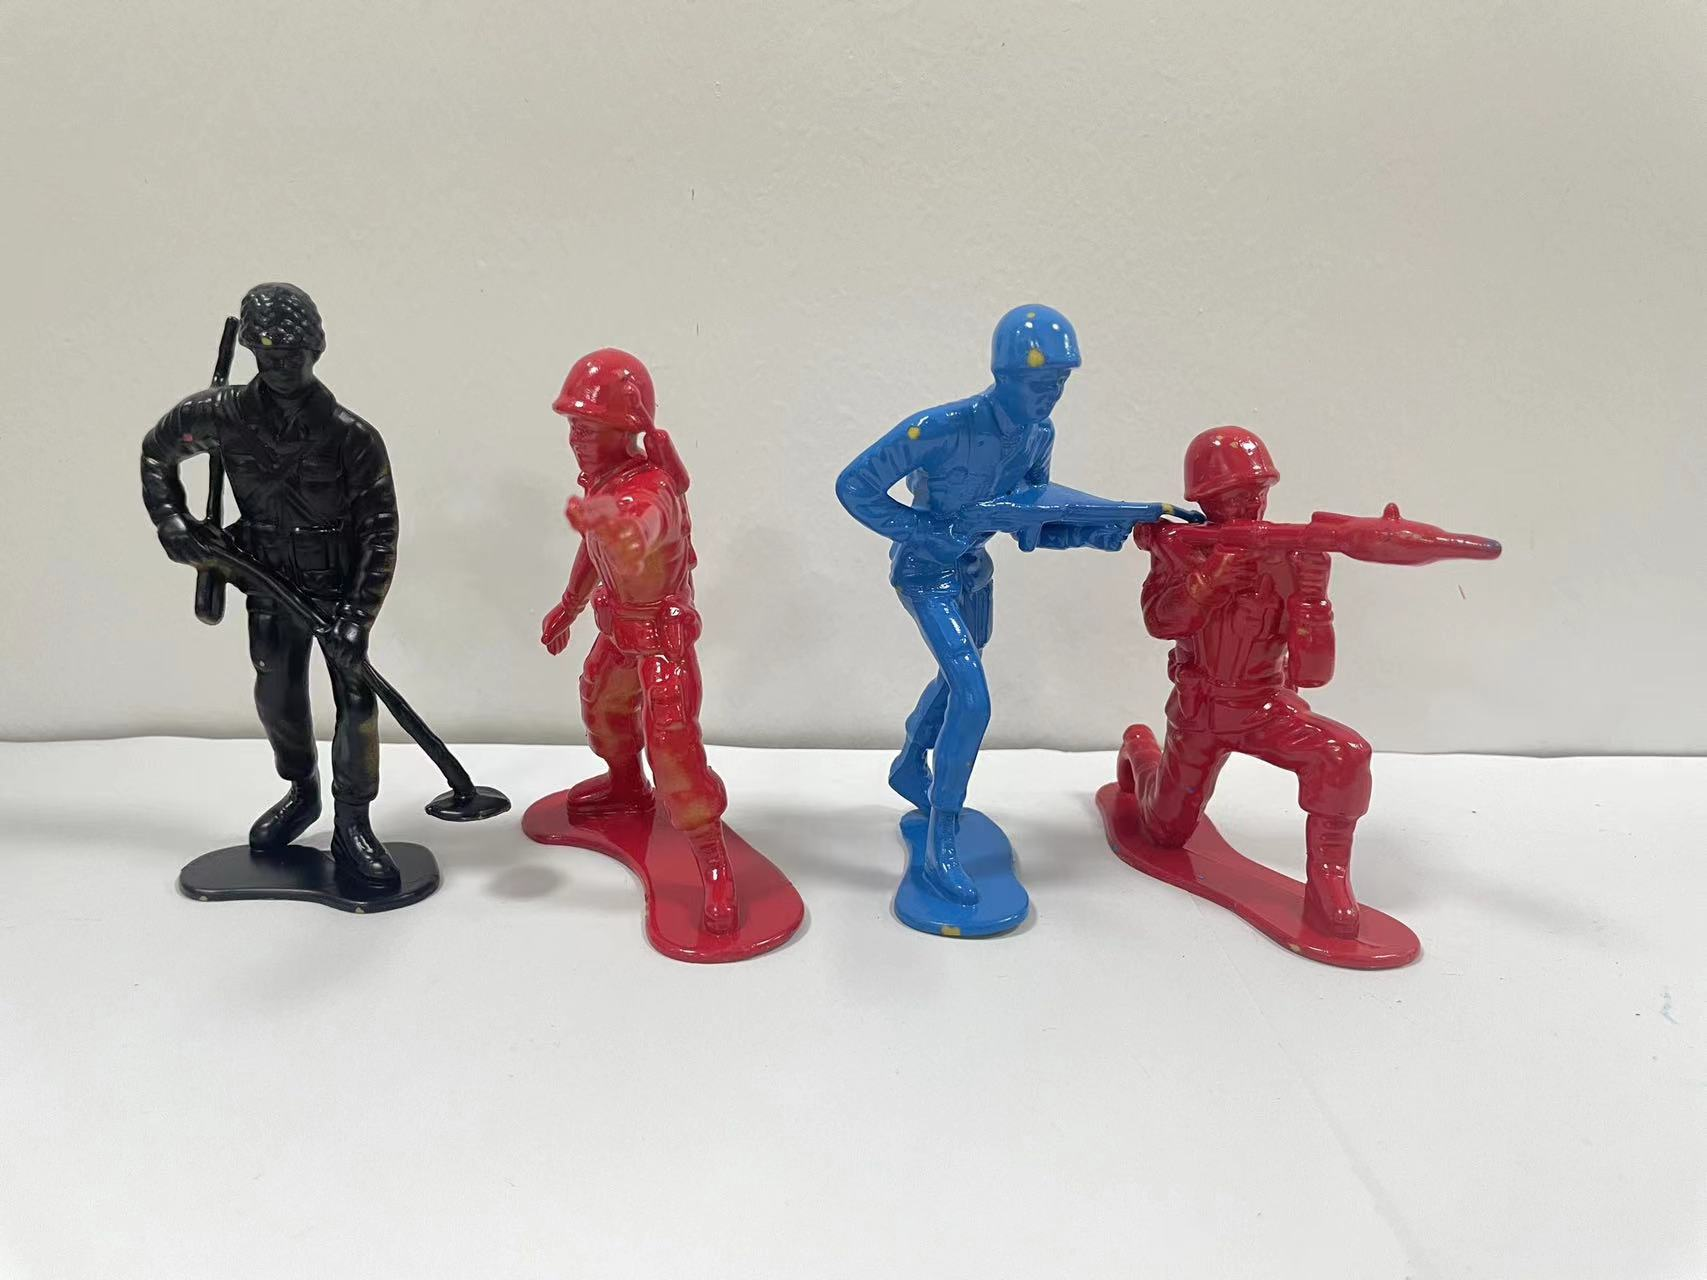black: (126, 255, 478, 945)
blue: (836, 241, 1138, 1038)
red: (1101, 401, 1512, 982), (505, 307, 808, 990)
